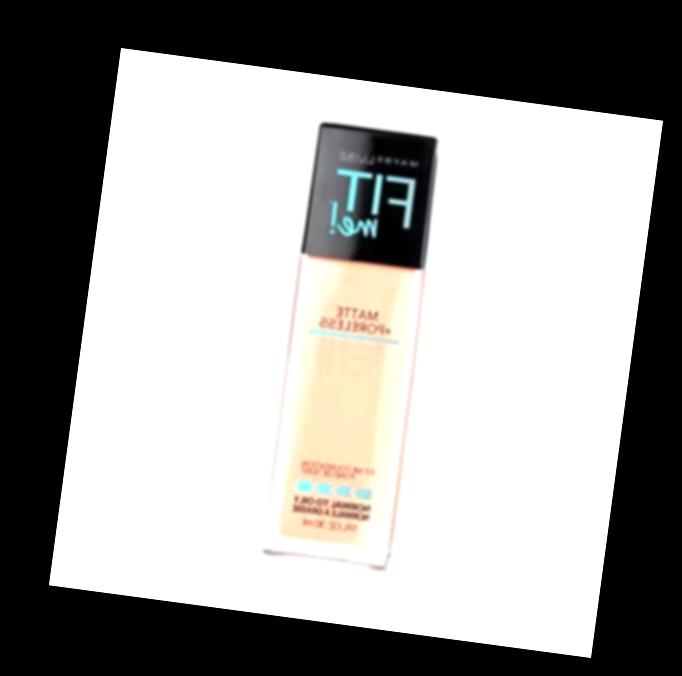cosmetic: (258, 120, 439, 578)
